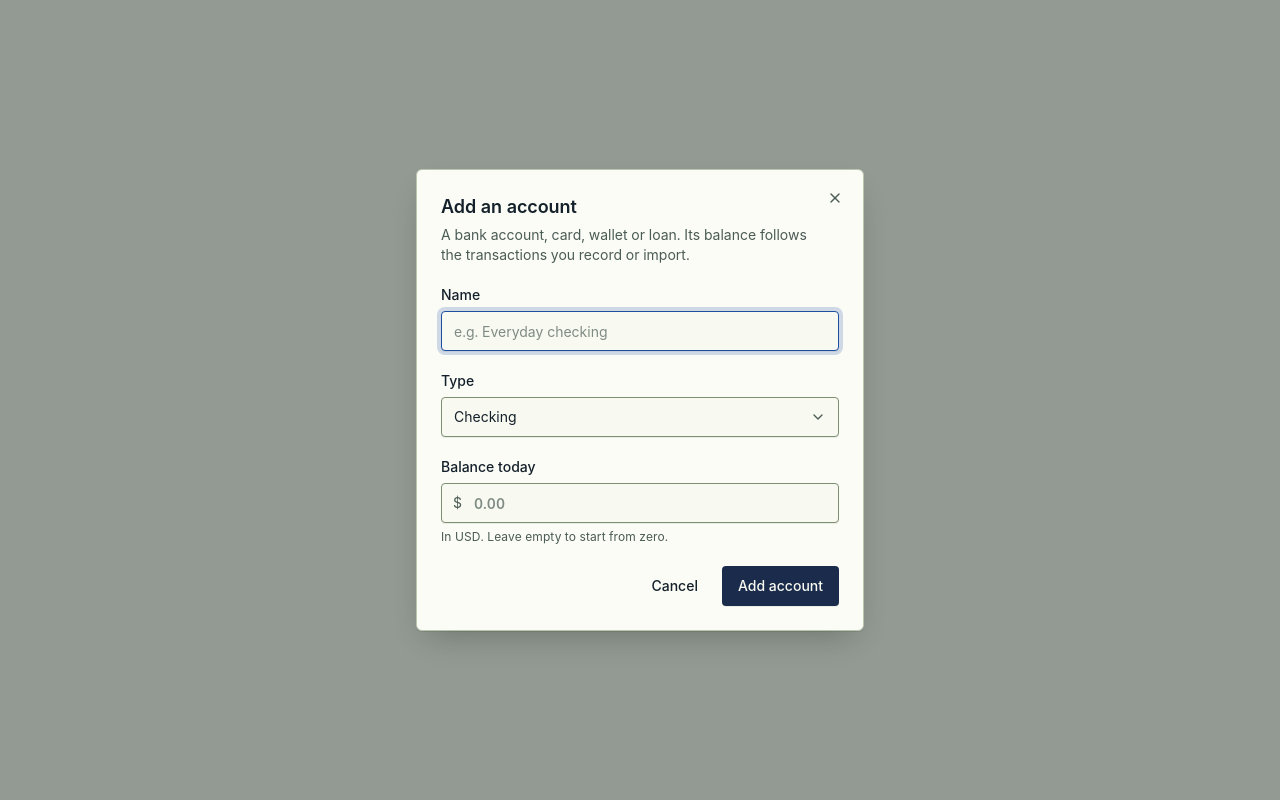
Test: AccountDialog › puts a duplicate name error on the name field
This screenshot has width=1280, height=800.
In the field labelled "Name": (640, 331) x1=441 y1=311 x2=839 y2=351, type "Cash"
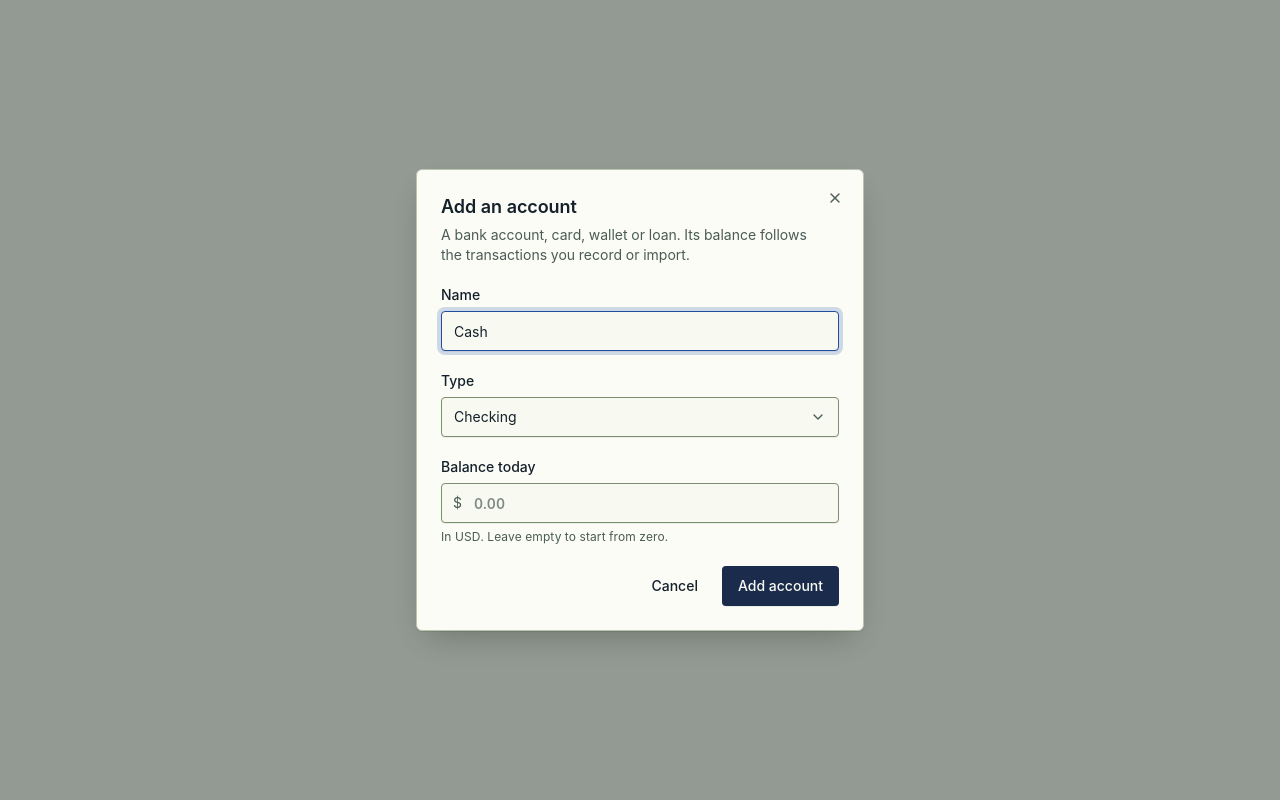
Click the button "Add account": click(780, 586) x1=722 y1=566 x2=839 y2=606
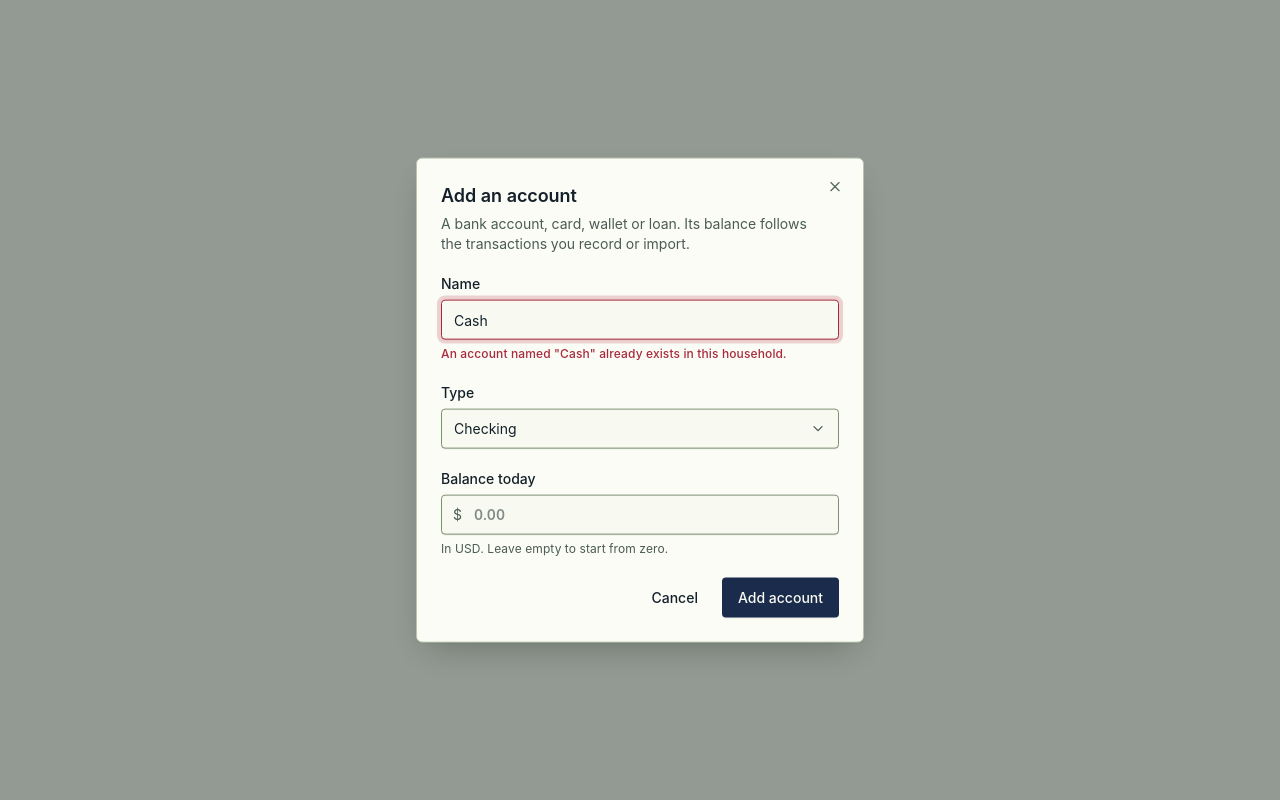
Check: the text "An account named \"Cash\" already exists in this household." is shown, box x1=441 y1=346 x2=839 y2=363
